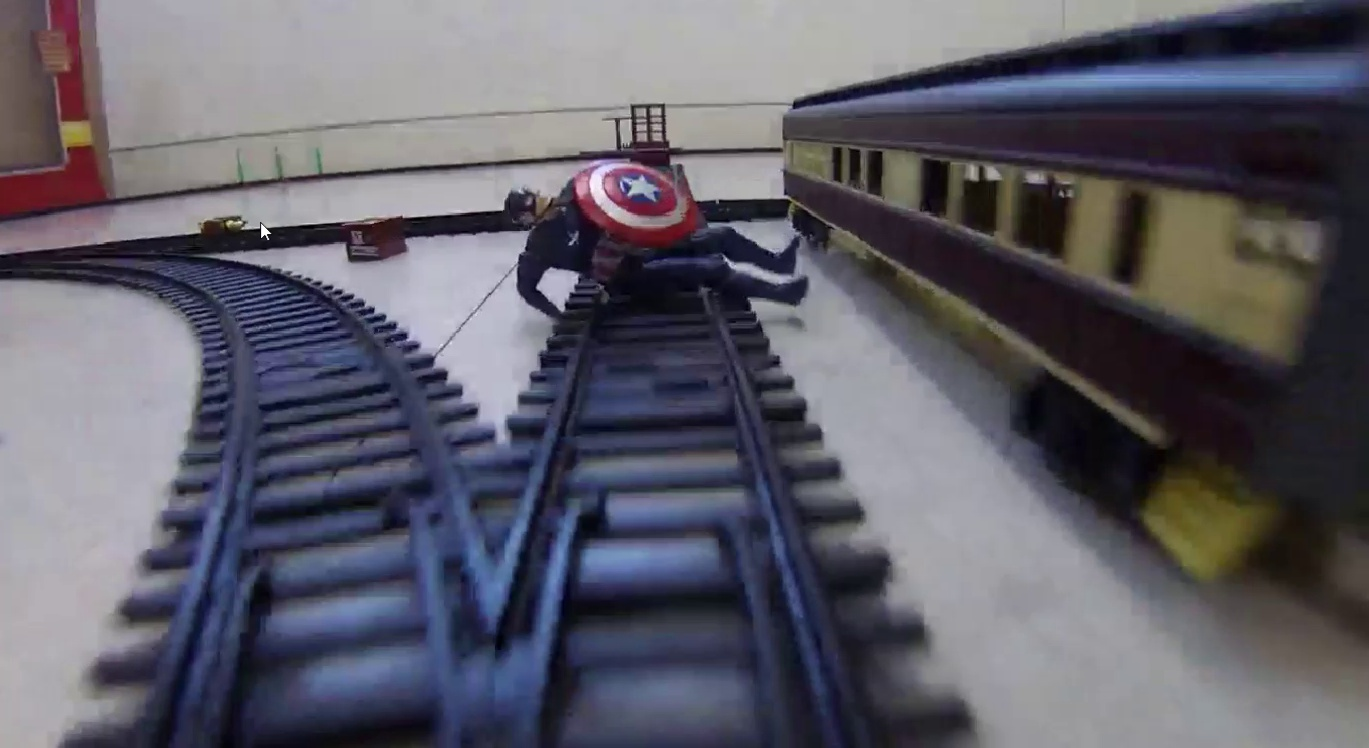box: (345, 217, 405, 258)
people: (510, 158, 798, 308)
